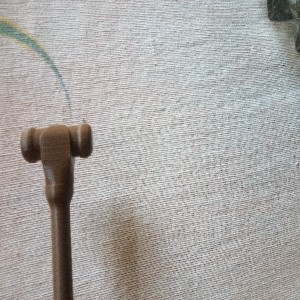palu: (20, 122, 94, 300)
